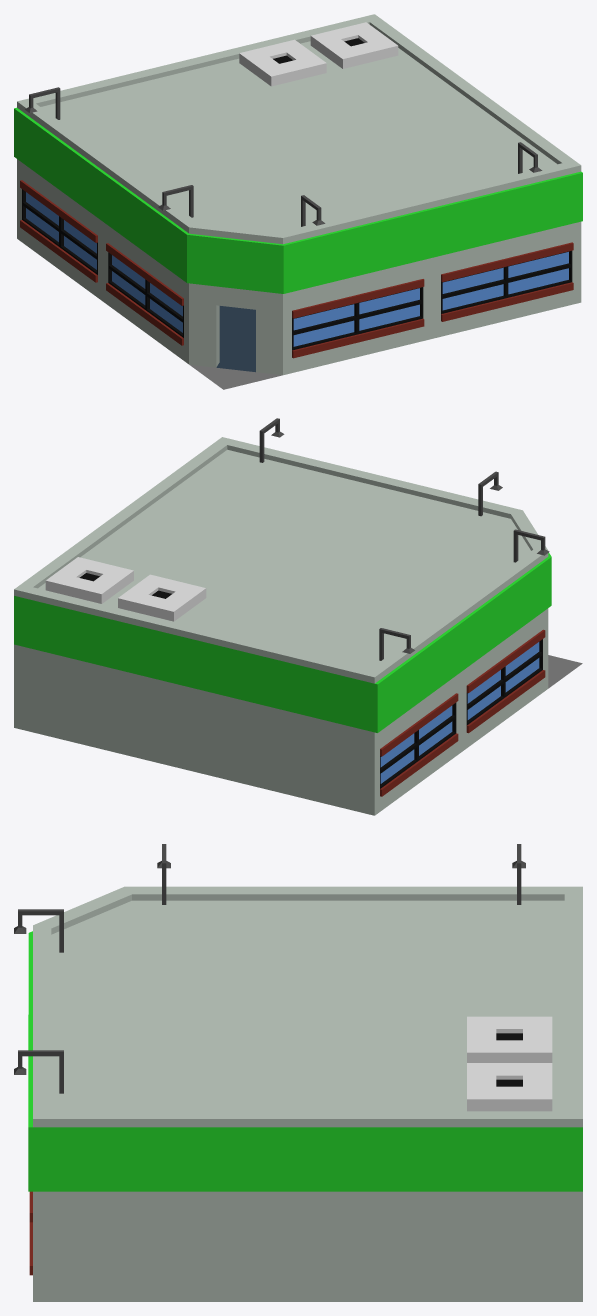
File: Building1.fbx
3 renders of one model, top to bottom at view 1: azimuth 30°, elevation 25°; view 2: azimuth 150°, elevation 25°; view 3: azimuth 270°, elevation 25°, orthographic. The views are drawn at different scales.
Parts seen in each view (by area): view 1: Building1, Building1Roof; view 2: Building1, Building1Roof; view 3: Building1, Building1Roof.
Part boxes in pixels (x1,y1,x2,y2): Building1: (14,14,582,389); Building1Roof: (25,22,556,231); Building1: (14,437,582,815); Building1Roof: (38,418,549,669); Building1: (28,886,582,1301); Building1Roof: (14,844,564,1111).
Size of the model in its own units: 1246 by 525 by 1241.
